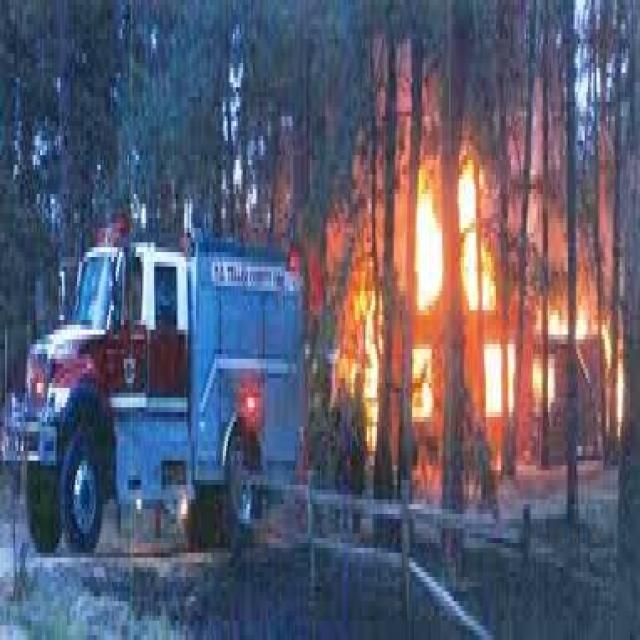Fire: (414, 188, 444, 320), (366, 293, 378, 454), (458, 167, 478, 222), (484, 347, 499, 419), (464, 246, 478, 312), (506, 341, 518, 415), (483, 240, 495, 312), (547, 352, 557, 406), (550, 308, 570, 332), (576, 308, 594, 334), (532, 354, 542, 400), (602, 324, 609, 366), (618, 364, 622, 432)
